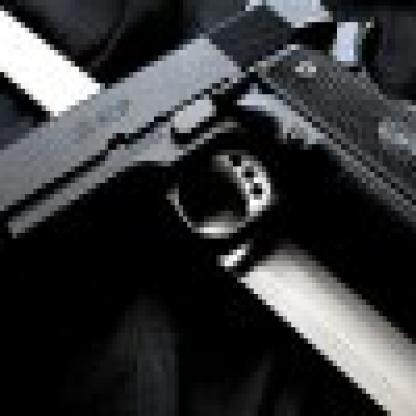gun: (0, 0, 412, 377)
